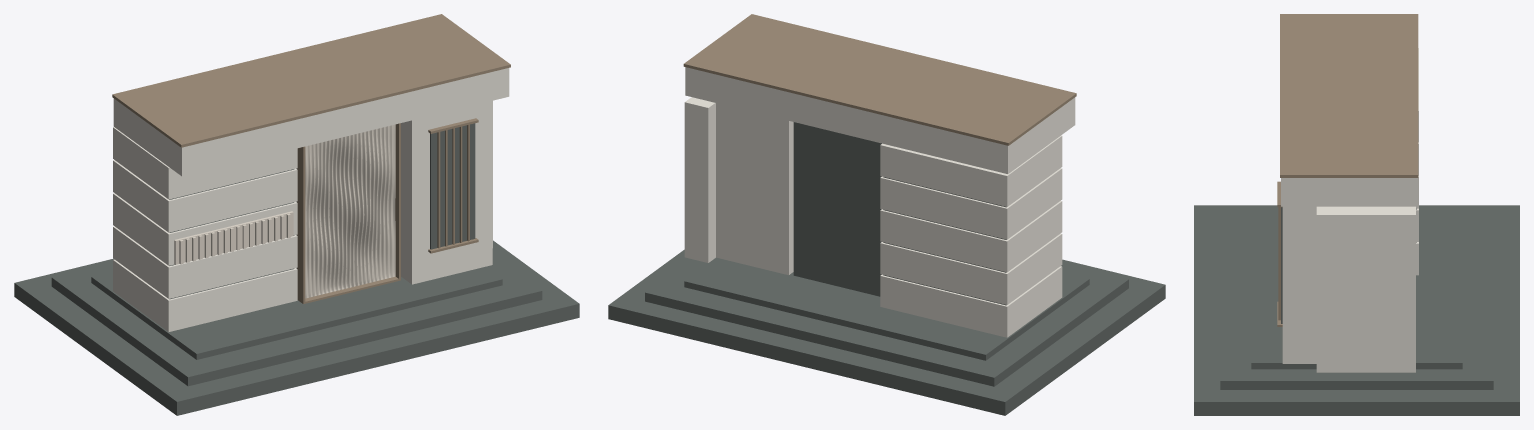
File: facade-study.glb
3 views of the same model, side by side, from view 1: azimuth 30°, elevation 25°; view 2: azimuth 150°, elevation 25°; view 3: azimuth 270°, elevation 25° (orthographic).
Parts seen in each view (by area): view 1: ArchitecturalMonolith; view 2: ArchitecturalMonolith; view 3: ArchitecturalMonolith.
Part boxes in pixels (<box>): ArchitecturalMonolith: <box>14,14,579,415</box>; ArchitecturalMonolith: <box>608,14,1165,415</box>; ArchitecturalMonolith: <box>1194,14,1519,415</box>.
Bounding box in the file's own units: 15 × 8.12 × 10.5.
